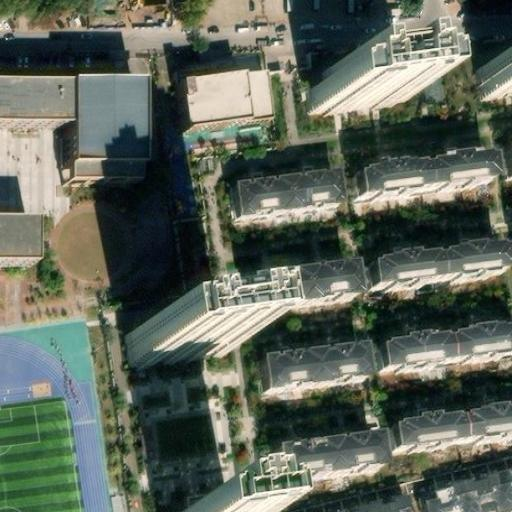building: (66, 78, 145, 187), (357, 148, 497, 198), (371, 240, 510, 290), (380, 324, 512, 374), (309, 58, 411, 114), (393, 406, 512, 454), (178, 72, 273, 132), (240, 266, 351, 316), (272, 432, 383, 482), (248, 350, 360, 399), (229, 171, 340, 220), (126, 318, 229, 367), (424, 468, 512, 512), (0, 79, 67, 126), (0, 213, 35, 264), (331, 491, 415, 512), (477, 60, 512, 101)
